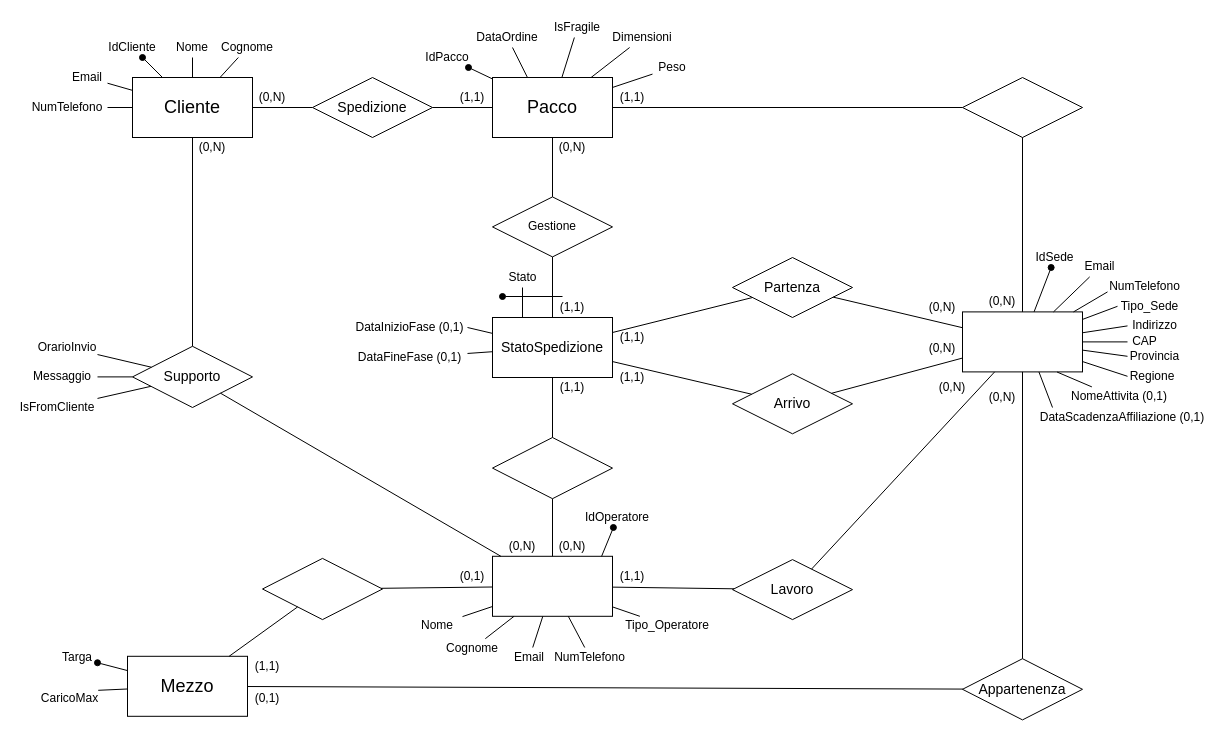
Image size: 1229x737. Some labels were removed from this diagram. The box of each missing label's shape, as (x1, y1, x2, y2) in pixels:
Destinazione: (962, 76, 1082, 138)
Incarico: (492, 436, 612, 499)
Operatore: (492, 555, 612, 616)
Sede: (962, 311, 1082, 372)
Trasporto: (262, 557, 382, 620)
